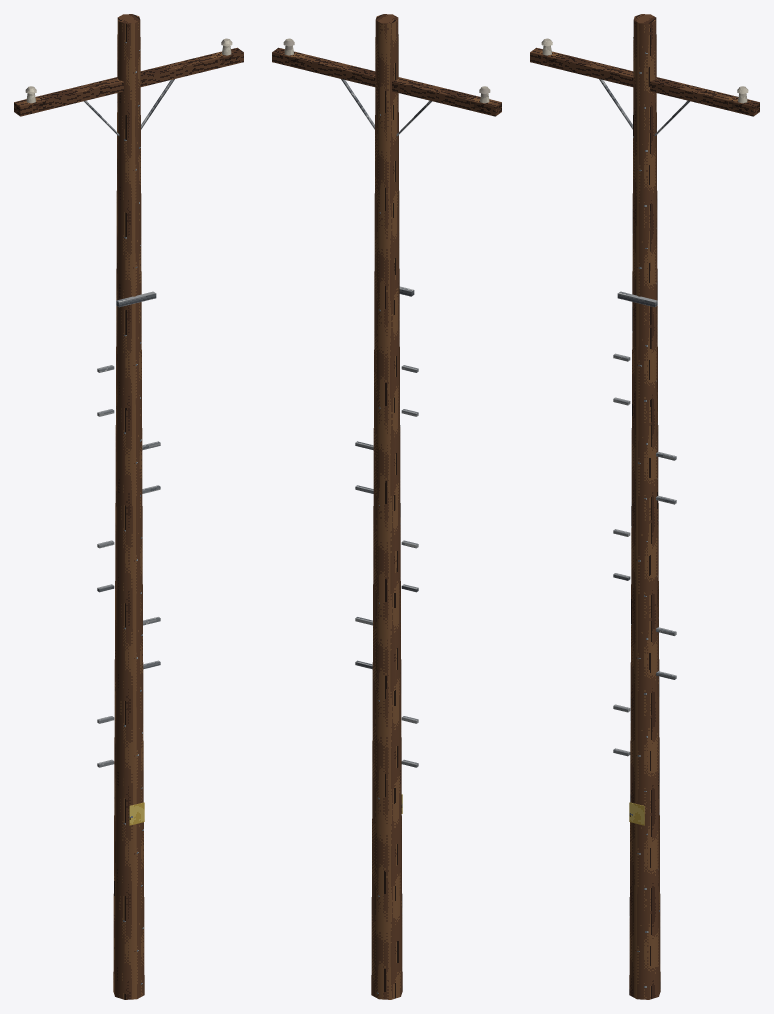
File: UT_UtilityPole.obj
3 views of the same model, side by side, from view 1: azimuth 30°, elevation 25°; view 2: azimuth 150°, elevation 25°; view 3: azimuth 330°, elevation 25° (orthographic).
Parts seen in each view (by area): view 1: UT_UtilityPole_Mesh_M_Town_PoleWood, UT_UtilityPole_Mesh_M_Furn_WoodDark, UT_UtilityPole_Mesh_M_Furn_MetalBrushed; view 2: UT_UtilityPole_Mesh_M_Town_PoleWood, UT_UtilityPole_Mesh_M_Furn_WoodDark, UT_UtilityPole_Mesh_M_Furn_MetalBrushed; view 3: UT_UtilityPole_Mesh_M_Town_PoleWood, UT_UtilityPole_Mesh_M_Furn_WoodDark, UT_UtilityPole_Mesh_M_Furn_MetalBrushed.
Boxes of the visible parts, x1,y1,x2,y2 form: UT_UtilityPole_Mesh_M_Town_PoleWood: (113, 14, 144, 999); UT_UtilityPole_Mesh_M_Furn_WoodDark: (14, 47, 243, 116); UT_UtilityPole_Mesh_M_Furn_MetalBrushed: (84, 79, 174, 767); UT_UtilityPole_Mesh_M_Town_PoleWood: (371, 14, 402, 999); UT_UtilityPole_Mesh_M_Furn_WoodDark: (272, 47, 501, 116); UT_UtilityPole_Mesh_M_Furn_MetalBrushed: (341, 79, 431, 767); UT_UtilityPole_Mesh_M_Town_PoleWood: (629, 14, 660, 999); UT_UtilityPole_Mesh_M_Furn_WoodDark: (530, 47, 759, 116); UT_UtilityPole_Mesh_M_Furn_MetalBrushed: (599, 79, 689, 756).
Bounding box in the file's own units: 2.4 × 10 × 0.31.
5 materials, 5 textured.
